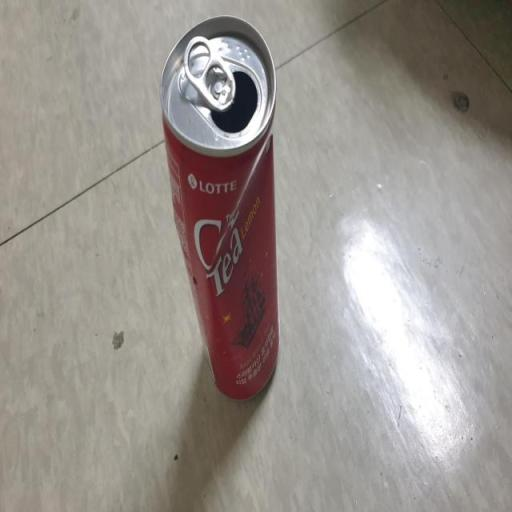metal: (150, 0, 300, 419)
